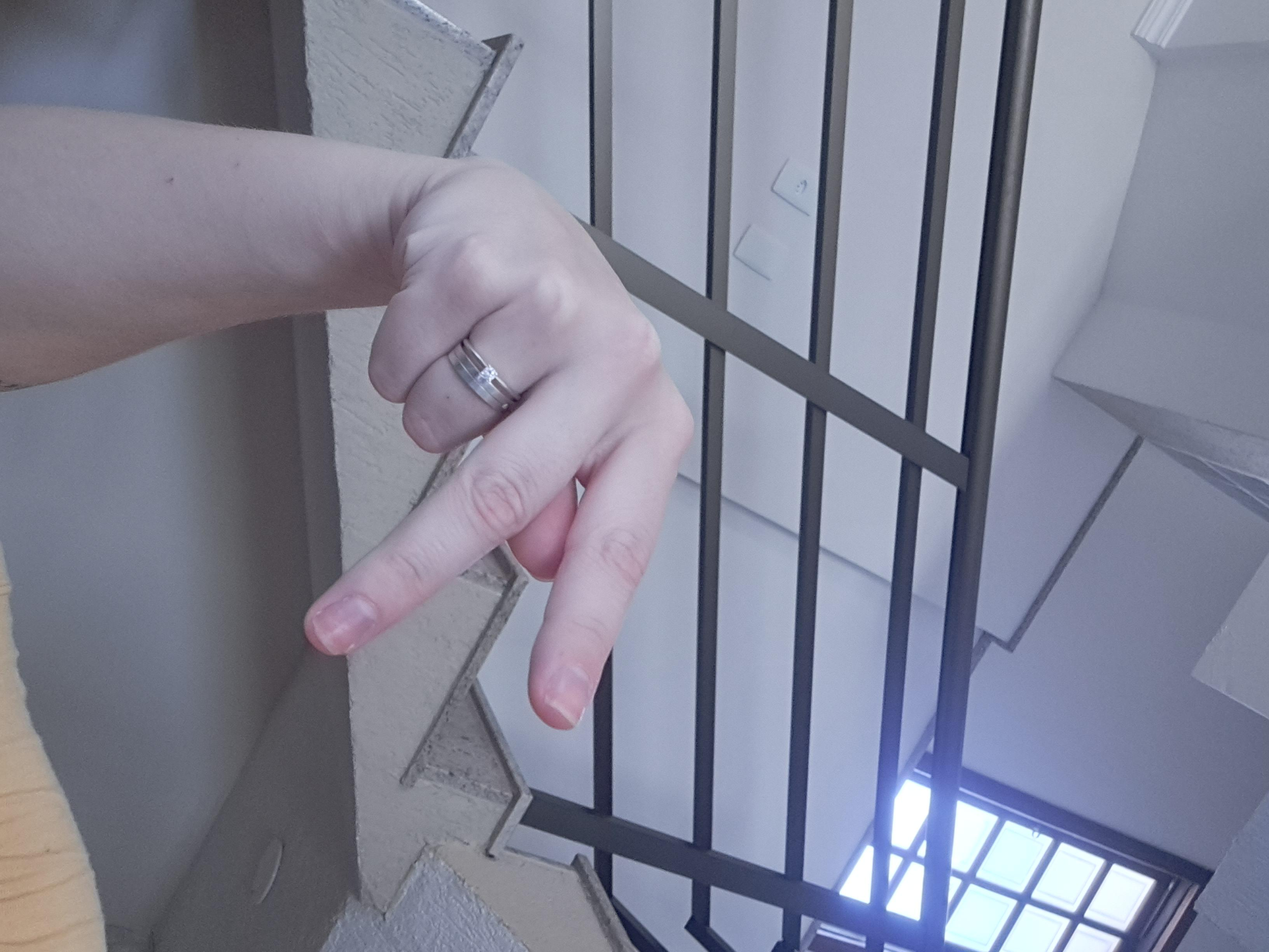P: (187, 414, 1016, 747)
